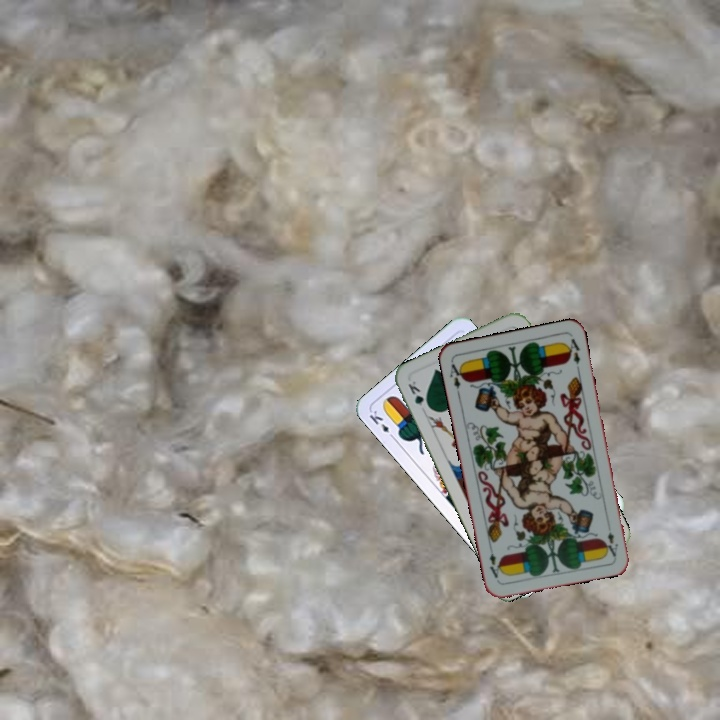EA: (446, 358, 467, 398), (602, 528, 620, 559)
EK: (365, 406, 398, 442)
GK: (404, 376, 433, 412)
